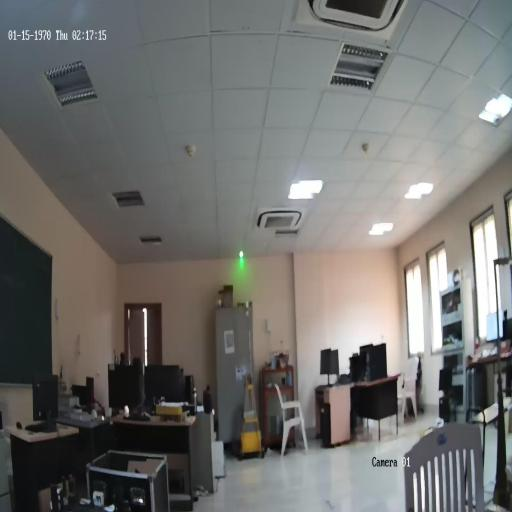laser: (239, 250, 245, 259)
